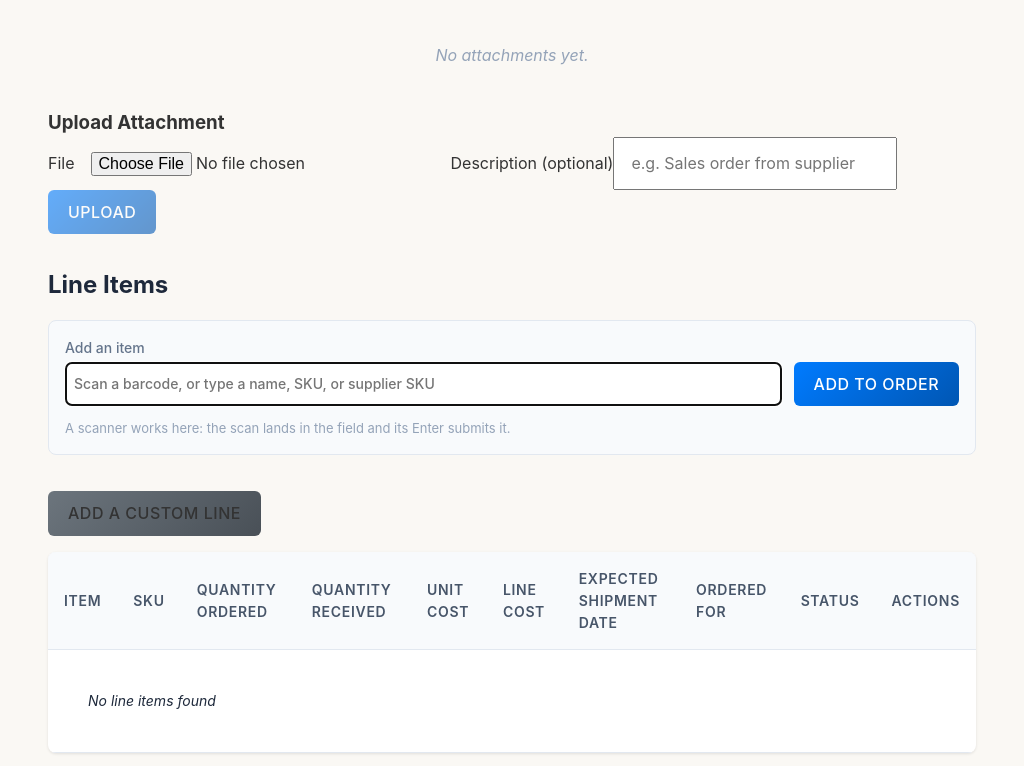
Test case: PurchaseOrderPage — adding a line to a draft order › a refused add leaves the failed text selected so the next scan replaces it
(page scrolled)
Type "M3 hex" into the field labelled "Add an item" at (423, 384), box [65,362,782,406]
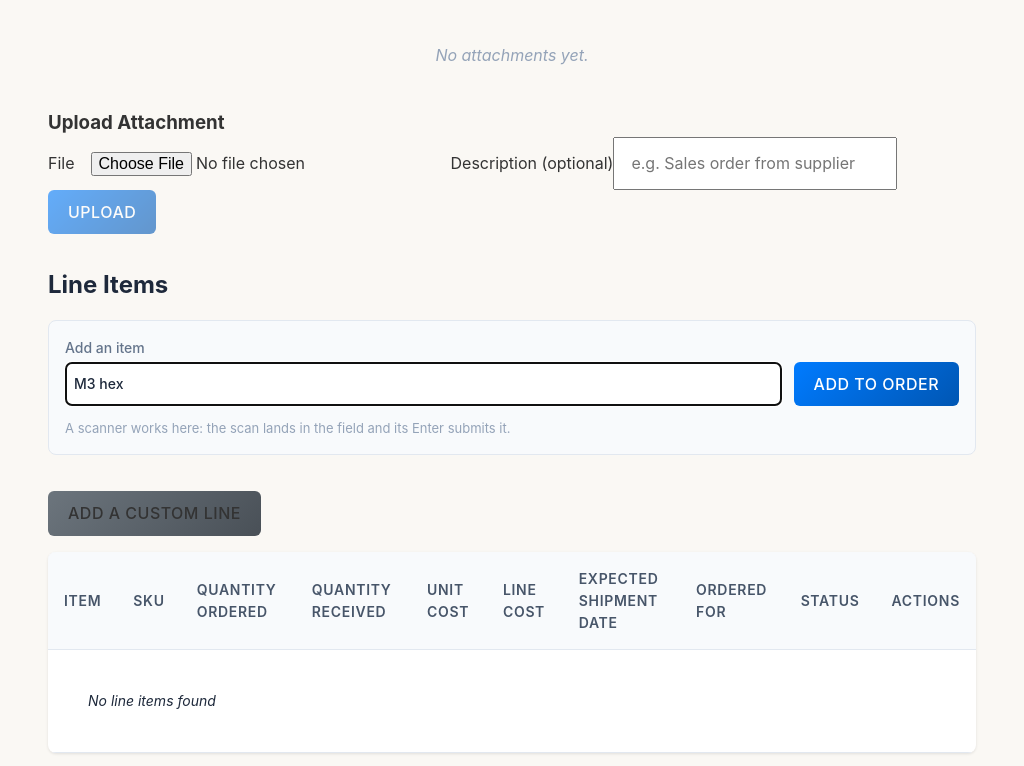
Submit the form labelled "Add an item", box [48,320,976,455]
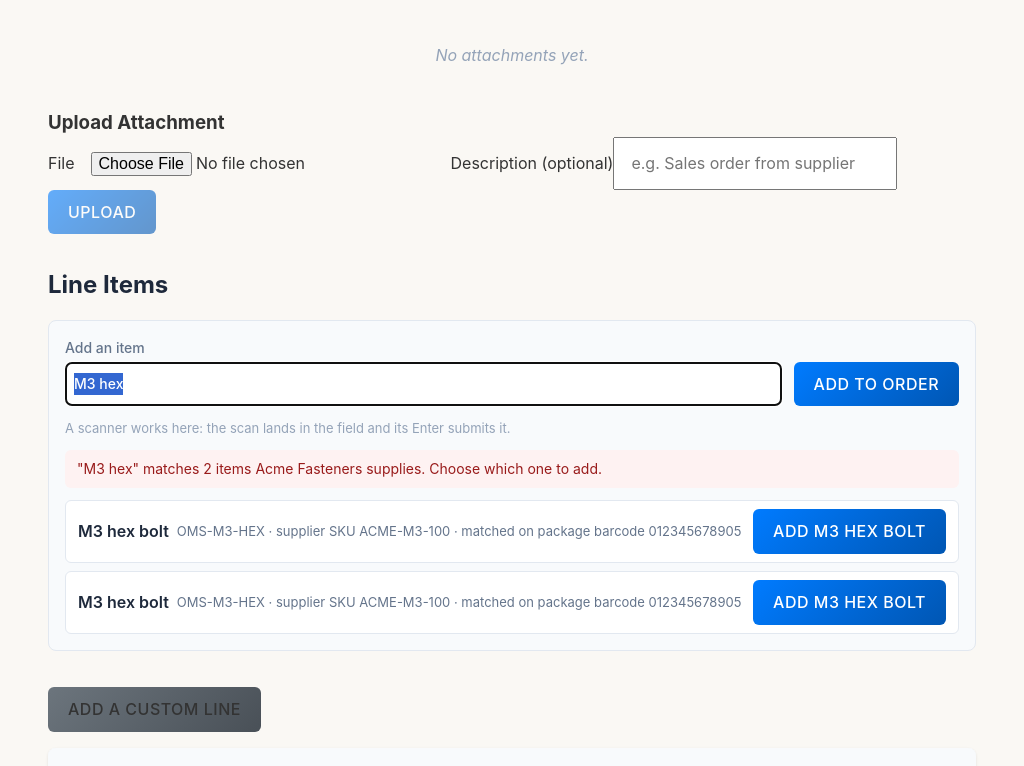
Result: the message "\"M3 hex\" matches 2 items Acme Fasteners supplies. Choose which one to add." is shown at [65,450,959,488]
